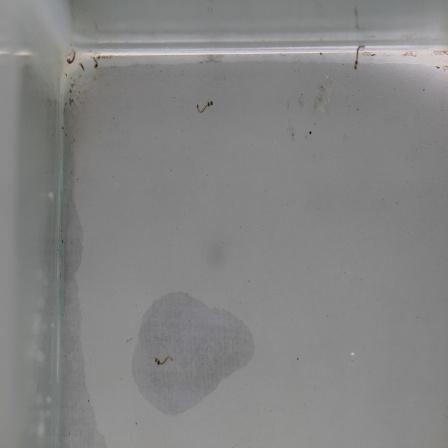Jentik-Nyamuk: (192, 97, 217, 119), (351, 41, 367, 72), (150, 351, 177, 369), (62, 47, 79, 67), (89, 53, 102, 73)
